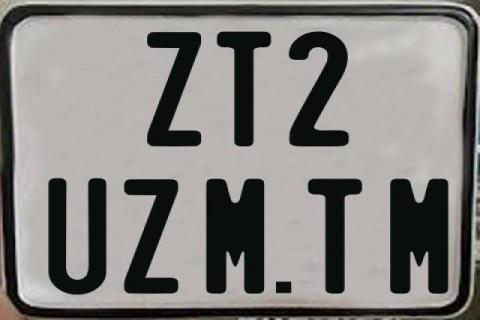0: (290, 29, 350, 149)
M: (206, 178, 270, 296), (388, 177, 452, 293)
T: (214, 31, 274, 148), (306, 177, 364, 296)
U: (45, 176, 106, 293)
Z: (147, 30, 205, 148), (122, 179, 180, 293)
